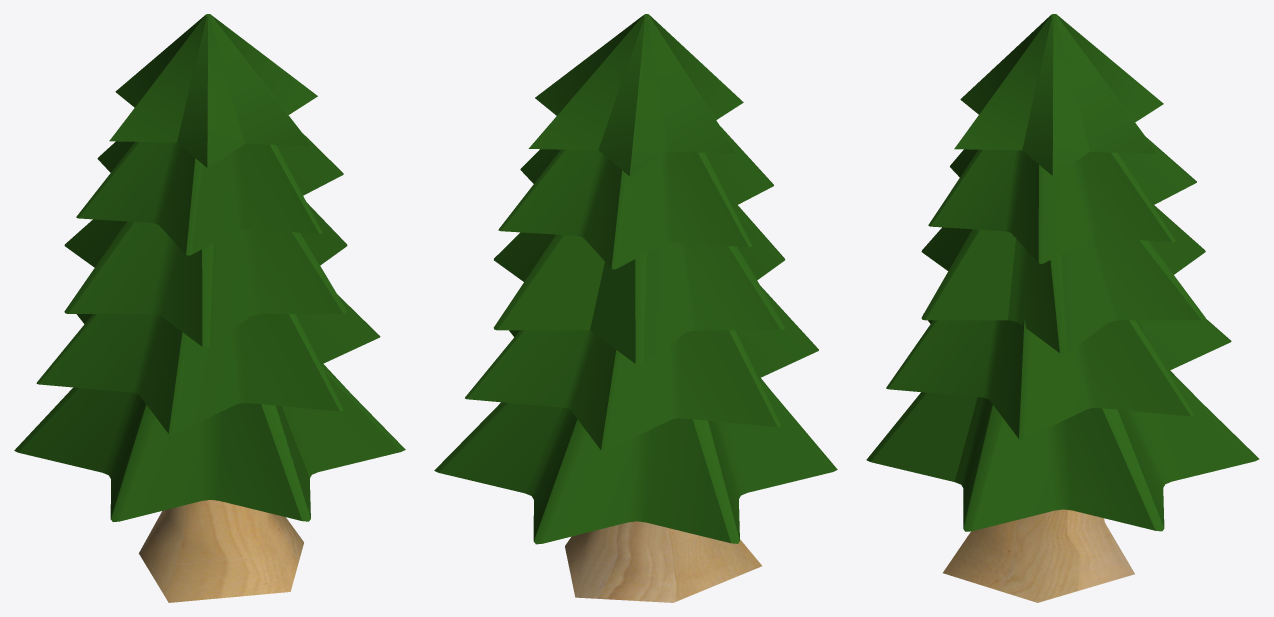
Rendered from ArbreTest.FBX.
3 views of the same model, side by side, from view 1: azimuth 30°, elevation 25°; view 2: azimuth 150°, elevation 25°; view 3: azimuth 270°, elevation 25° (orthographic). The views are drawn at different scales.
Visible parts, largest first — view 1: Star001, Object001, Object004, Object002, Object003, Cylinder001; view 2: Star001, Object001, Object004, Object002, Object003, Cylinder001; view 3: Star001, Object001, Object004, Object002, Object003, Cylinder001.
Part boxes in pixels (bbox=[...]): Star001: bbox=[14, 364, 405, 521]; Object001: bbox=[36, 294, 380, 434]; Object004: bbox=[64, 203, 347, 347]; Object002: bbox=[76, 134, 343, 255]; Object003: bbox=[109, 14, 317, 168]; Cylinder001: bbox=[139, 500, 303, 602]; Star001: bbox=[434, 378, 837, 544]; Object001: bbox=[465, 286, 818, 450]; Object004: bbox=[493, 205, 785, 364]; Object002: bbox=[498, 126, 773, 269]; Object003: bbox=[528, 14, 743, 176]; Cylinder001: bbox=[565, 521, 761, 602]; Star001: bbox=[866, 370, 1259, 531]; Object001: bbox=[886, 314, 1231, 439]; Object004: bbox=[921, 205, 1205, 353]; Object002: bbox=[928, 136, 1196, 263]; Object003: bbox=[954, 14, 1163, 175]; Cylinder001: bbox=[943, 509, 1134, 602].
Size of the model in its own units: 37.31 by 63.12 by 41.32.
Materials: 2 (1 with a texture image).
